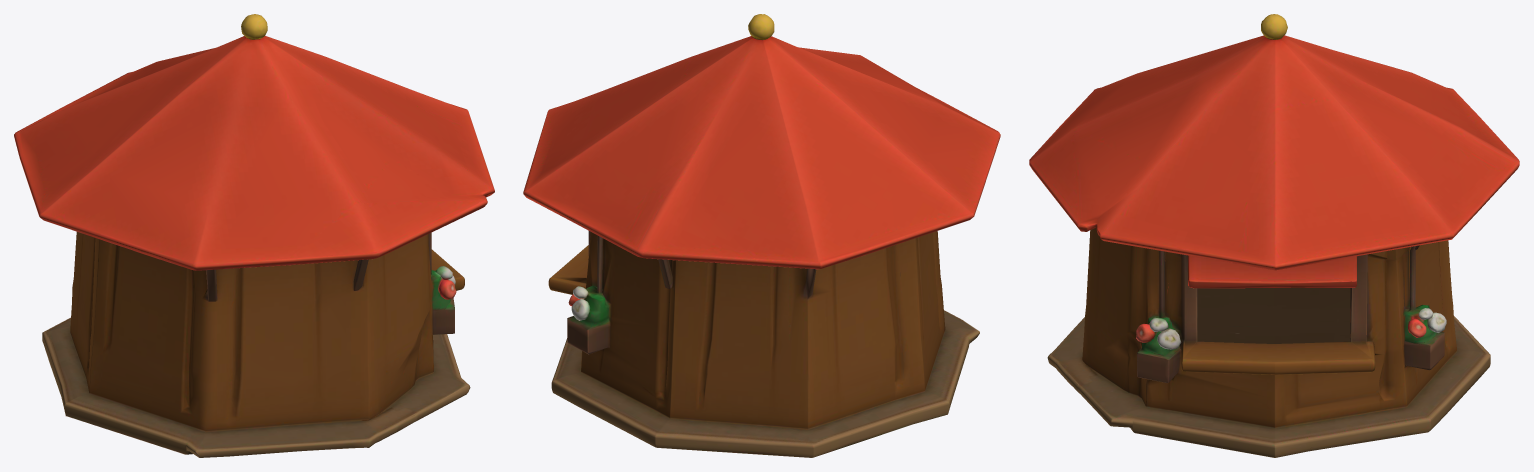
File: kiosk-cafe-blender-cleanup.glb
The picture shows the model from 3 angles, left to right: view 1: azimuth 30°, elevation 25°; view 2: azimuth 150°, elevation 25°; view 3: azimuth 270°, elevation 25°; orthographic projection.
Parts seen in each view (by area): view 1: tripo_node_af78663e-ae54-446d-b977-bd2e0558951b; view 2: tripo_node_af78663e-ae54-446d-b977-bd2e0558951b; view 3: tripo_node_af78663e-ae54-446d-b977-bd2e0558951b.
Boxes of the visible parts, <box> form: tripo_node_af78663e-ae54-446d-b977-bd2e0558951b: <box>14,14,494,457</box>; tripo_node_af78663e-ae54-446d-b977-bd2e0558951b: <box>523,14,1000,457</box>; tripo_node_af78663e-ae54-446d-b977-bd2e0558951b: <box>1029,14,1519,457</box>.
Size of the model in its own units: 1 by 0.7926 by 0.998.
1 material, 1 textured.
